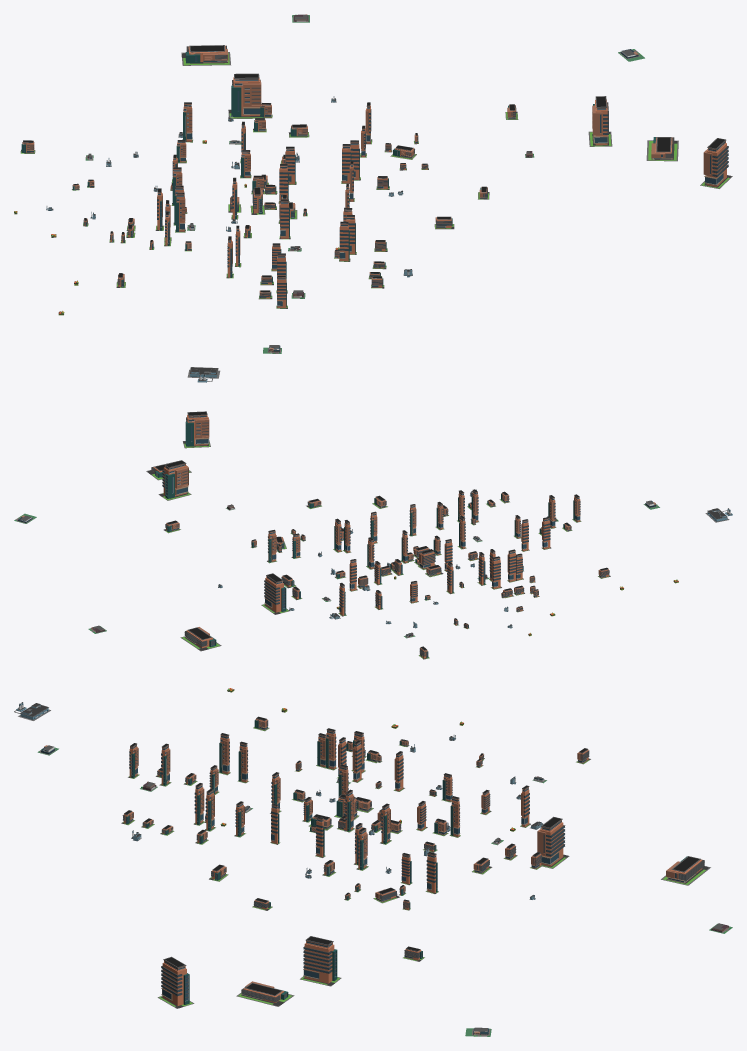
File: dubai2.glb
The picture shows the model from 3 angles, top to bottom: view 1: azimuth 30°, elevation 25°; view 2: azimuth 150°, elevation 25°; view 3: azimuth 270°, elevation 25°; orthographic projection. The views are drawn at different scales.
Visible parts, largest first — view 1: dubai; view 2: dubai; view 3: dubai.
Part boxes in pixels (left/top/right/bottom): dubai: left=14, top=14, right=732, bottom=382; dubai: left=14, top=411, right=732, bottom=659; dubai: left=14, top=688, right=732, bottom=1036.
Bounding box in the file's own units: 2334 × 120 × 2042.
Materials: 8 (8 with a texture image).
